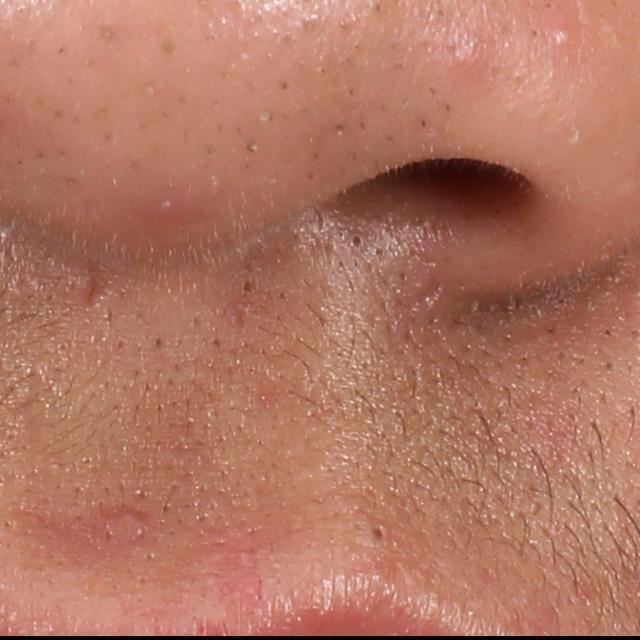atrophic_scar: (83, 271, 104, 312)
comedo: (239, 275, 261, 302), (367, 526, 392, 544)
papule: (109, 506, 149, 535)
pustule: (551, 26, 575, 53)
